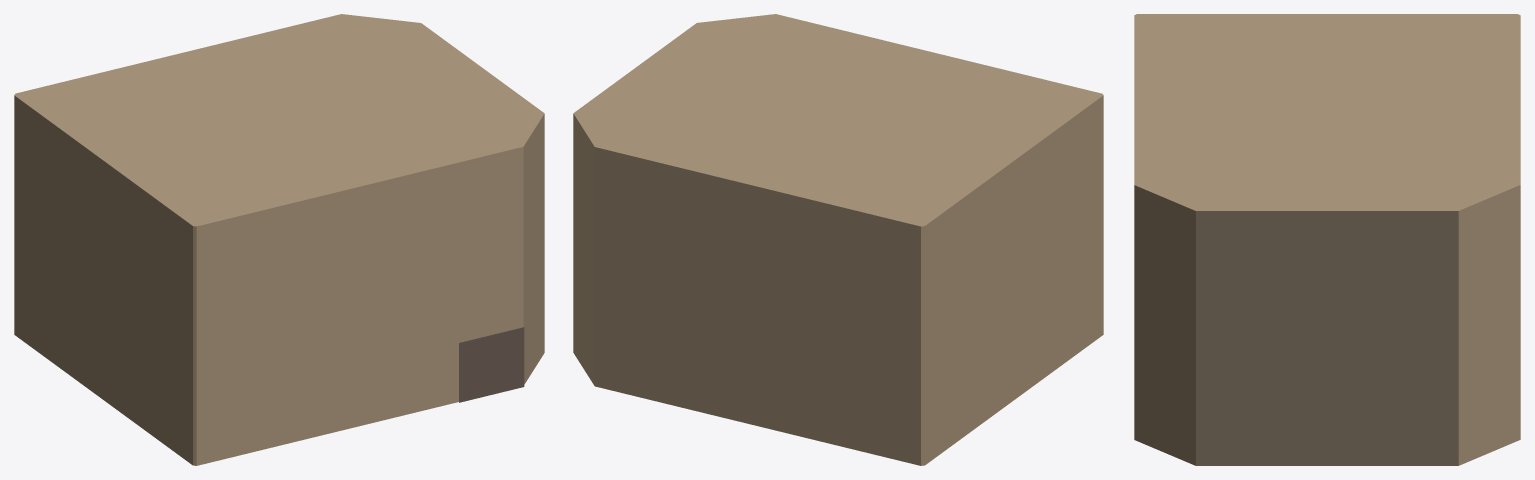
The model's file is loin-etape-1.glb.
The picture shows the model from 3 angles, left to right: view 1: azimuth 30°, elevation 25°; view 2: azimuth 150°, elevation 25°; view 3: azimuth 270°, elevation 25°; orthographic projection. The views are drawn at different scales.
Visible parts, largest first — view 1: loin; view 2: loin; view 3: loin.
Part boxes in pixels (box(x1,y1,x2,y2)): loin: box(14, 14, 544, 465); loin: box(573, 14, 1103, 465); loin: box(1134, 14, 1520, 465).
Bounding box in the file's own units: 0.819 × 0.4941 × 0.6824.
